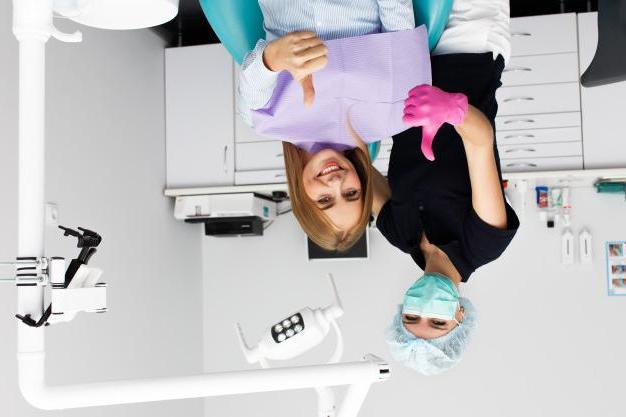thumbsdown: (289, 30, 328, 108), (402, 84, 440, 162)
